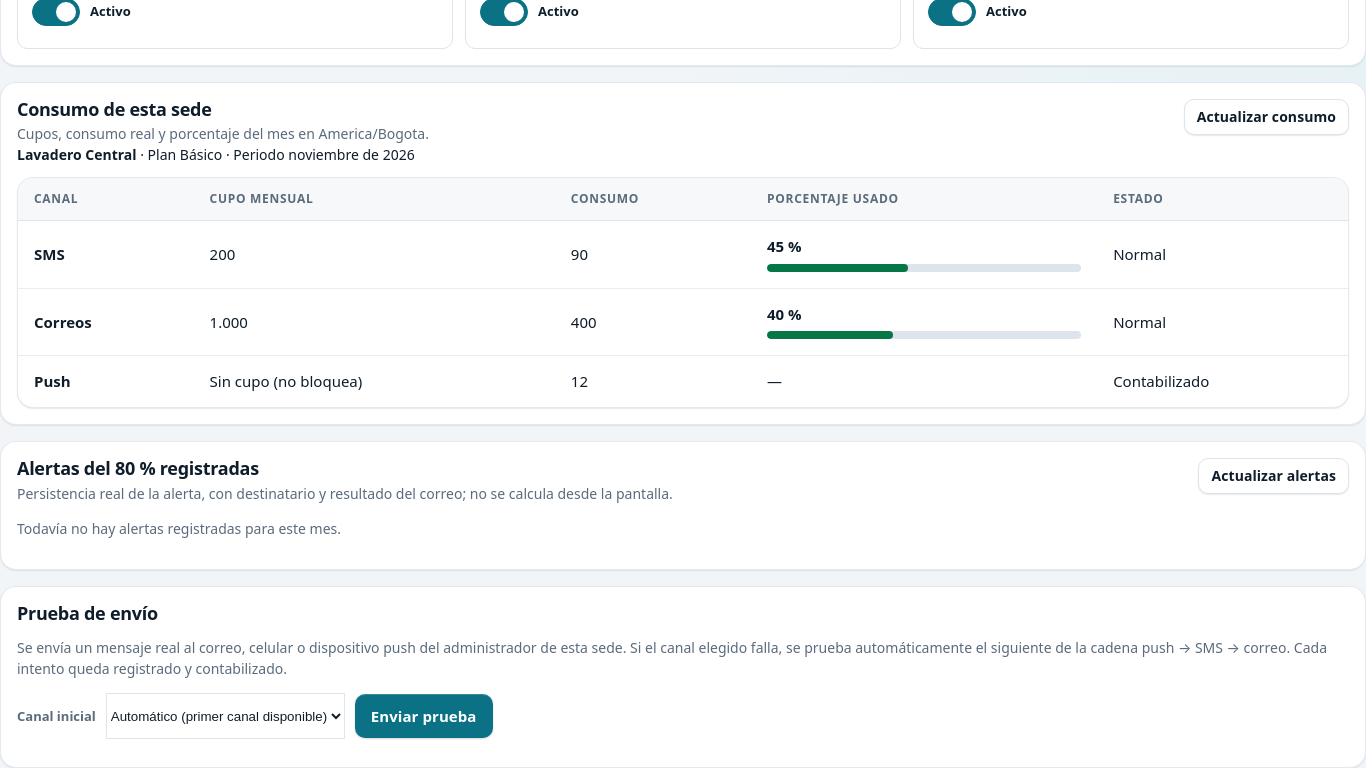
Test: HU-39 · canales, consumo y prueba real en la sede › envía una prueba real por SMS, cae al correo y muestra el resultado de cada intento
The image size is (1366, 768).
(page scrolled)
Select "SMS" in the dropdown labelled "Canal inicial". click: (225, 716)
box: 106,693 -> 345,739
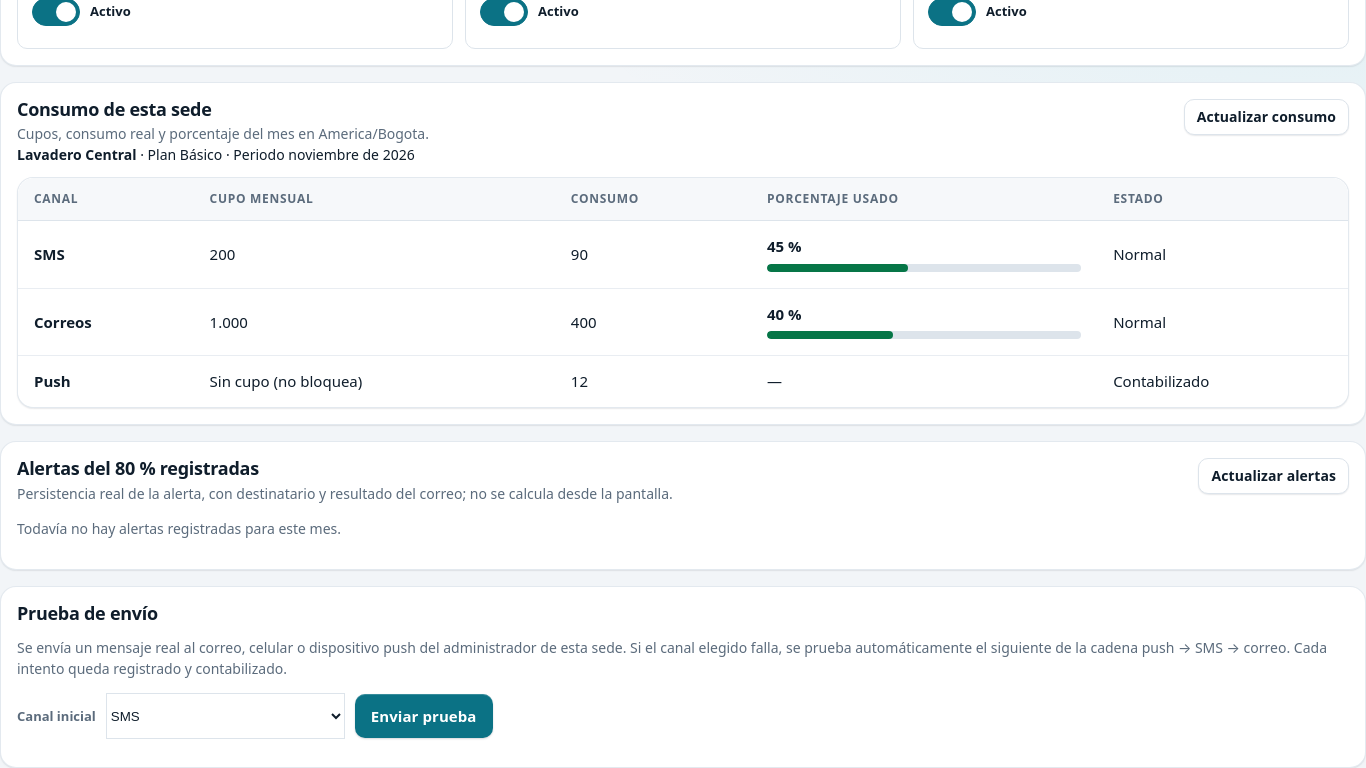
Click the button "Enviar prueba". click: click(424, 716)
box: 355,694 -> 492,738
(page scrolled)
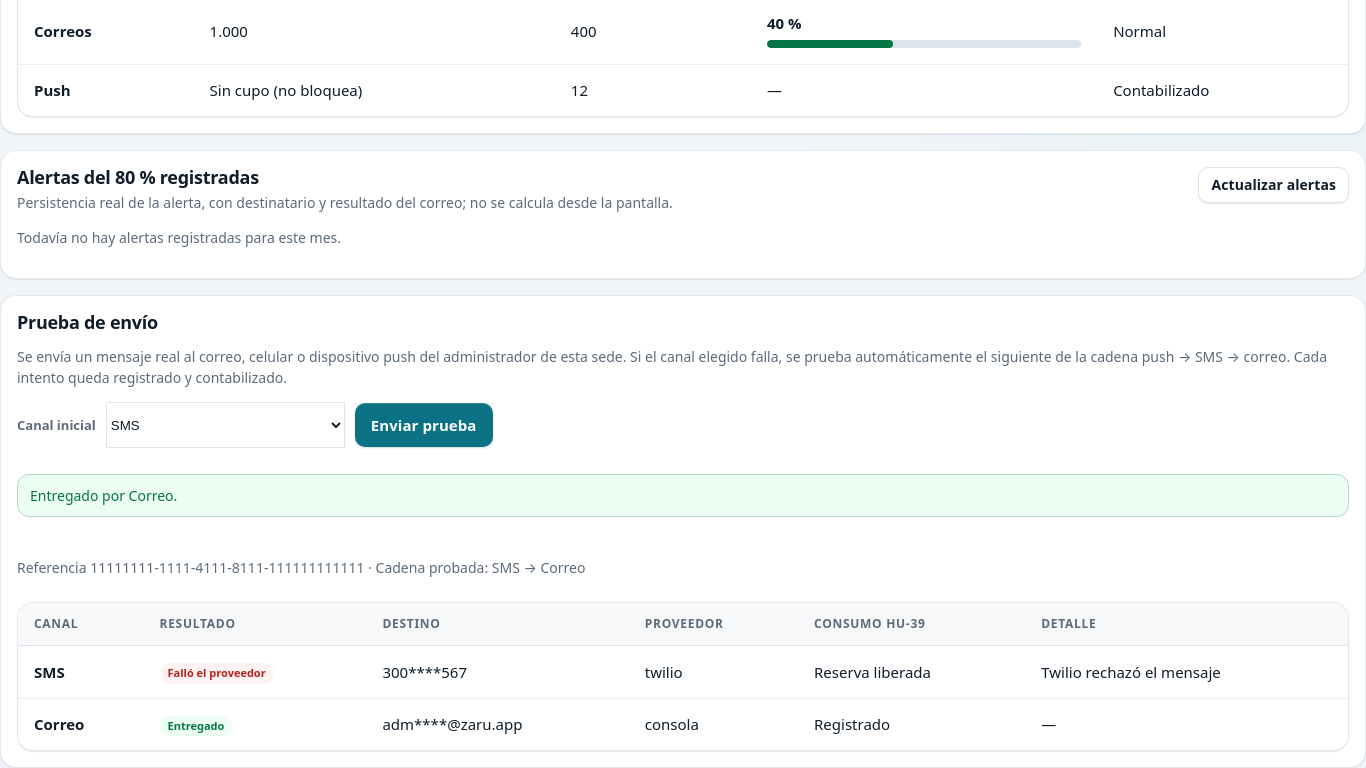
expect the text "Entregado por Correo." is shown: met, box 17,474 -> 1349,517
expect the text "Twilio rechazó el mensaje" is shown: met, box 1025,646 -> 1348,698
expect the text "Reserva liberada" is shown: met, box 798,646 -> 1025,698
